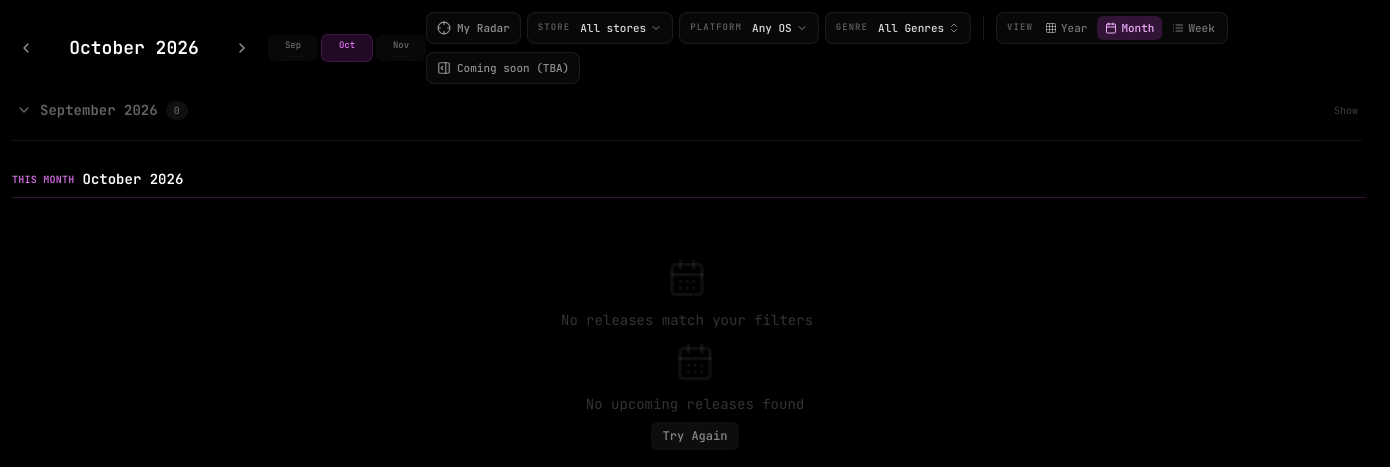
it: ReleaseCalendar (B31) › switching to Week after navigating Month view to December shows the week of Dec 1
Check: the heading "October 2026" is shown, box x1=69 y1=36 x2=199 y2=59
Click the button named "Next period" at (242, 48), box x1=228 y1=34 x2=256 y2=62
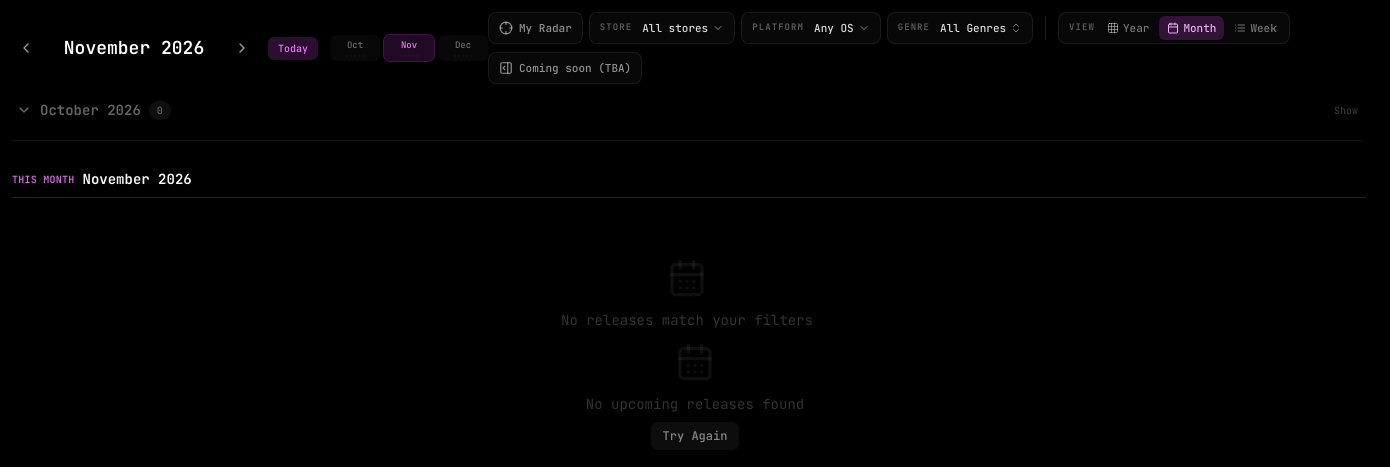
Click the button named "Next period" at (242, 48), box x1=228 y1=34 x2=256 y2=62
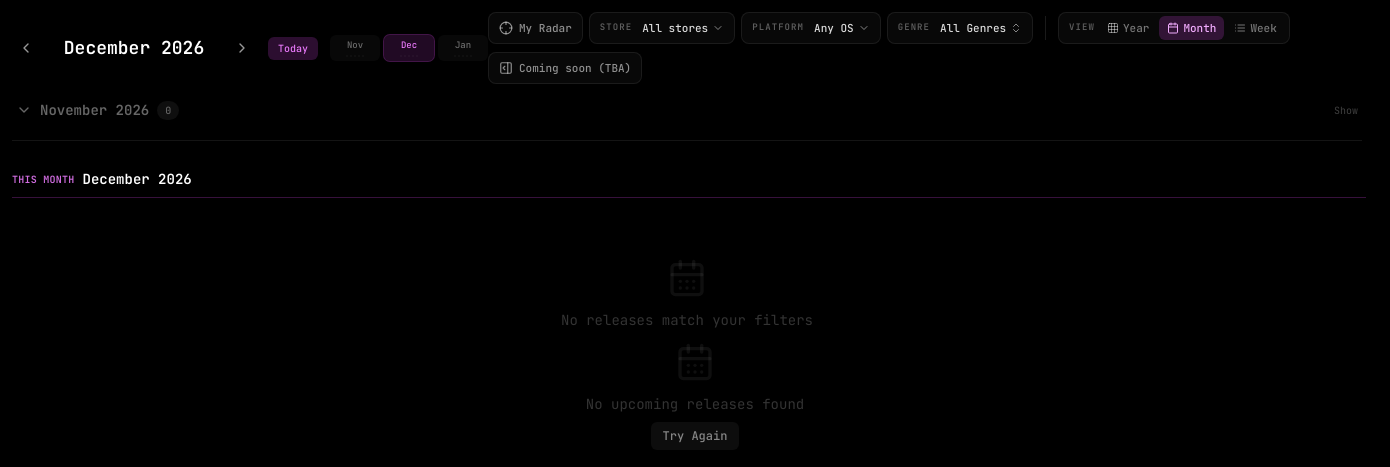
Check: the heading "December 2026" is shown, box x1=64 y1=36 x2=204 y2=59
Click the radio button labelled "Week" at (1256, 28), box x1=1226 y1=16 x2=1285 y2=40
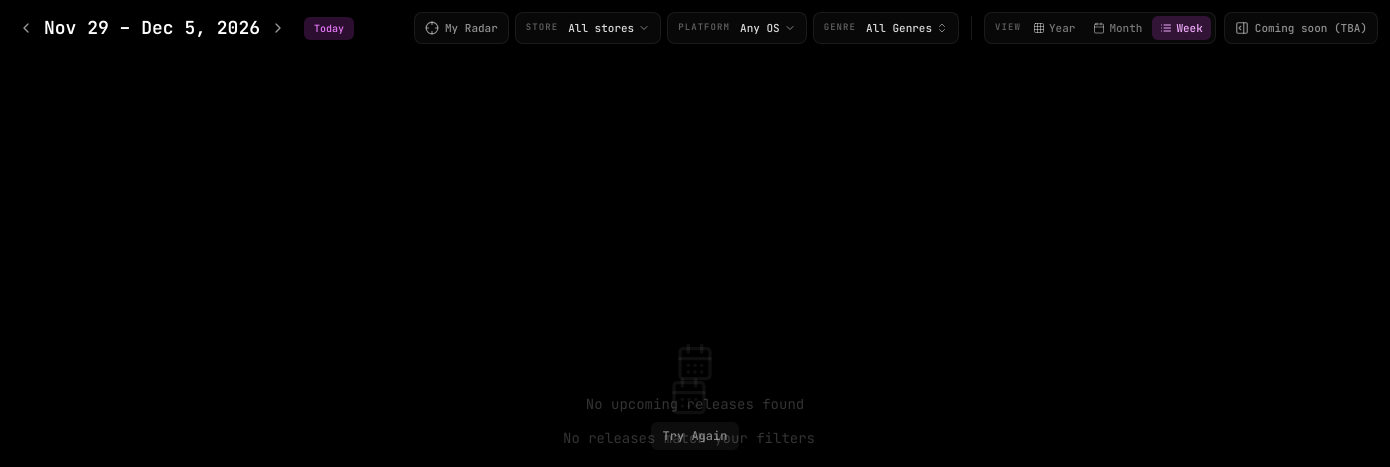
Check: the button "Today" is shown, box x1=304 y1=16 x2=354 y2=40
Check: the heading "Nov 29 – Dec 5, 2026" is shown, box x1=44 y1=14 x2=260 y2=42
